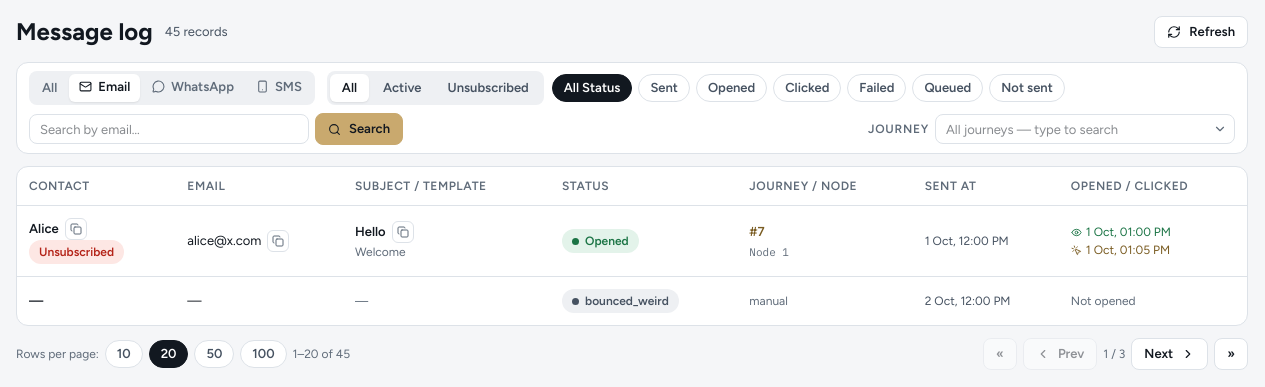
Scenario: Send Log page › paginates and changes page size
Expected: the text "1 / 3" is shown, [1103,345,1125,363]
Click the button "Next": (1170, 354) [1131,338,1208,370]
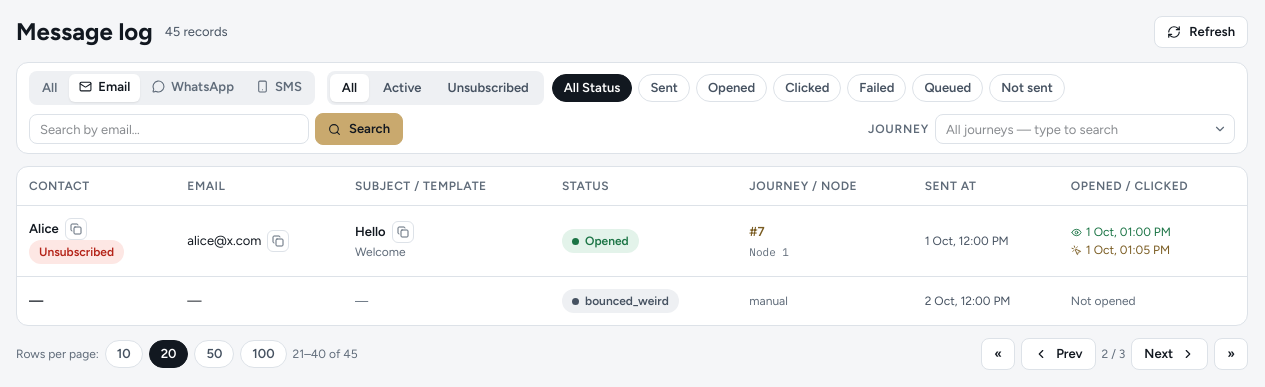
Now the text "21–40 of 45" is shown, box [293,345,358,363]
Click the button "»": (1231, 354) [1214,338,1248,370]
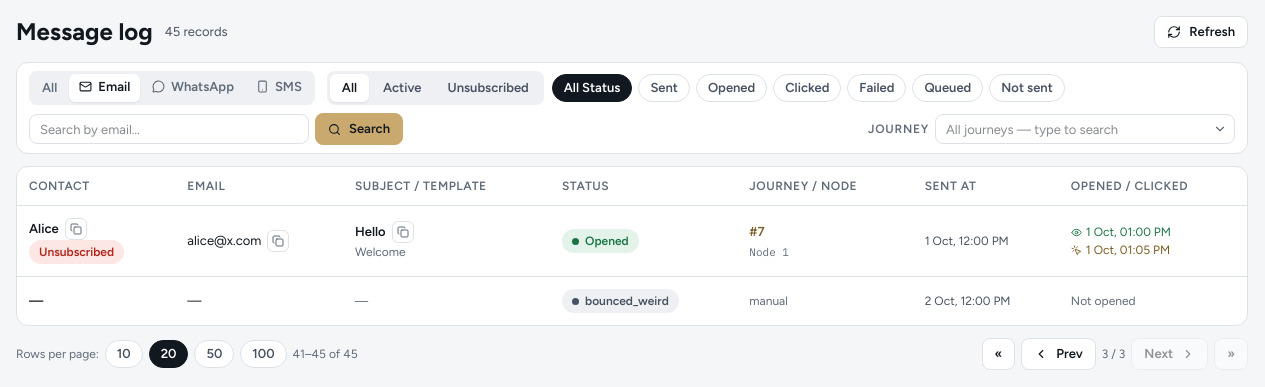
Now the button "Next" is disabled, box [1131,338,1208,370]
Click the button "50": (214, 354) [194,340,234,368]
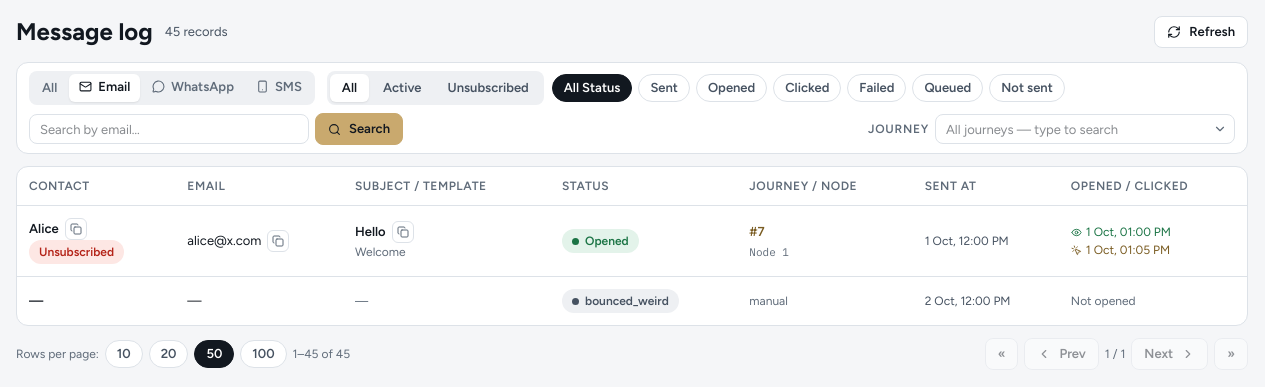
Now the text "1 / 1" is shown, box [1105,345,1125,363]
